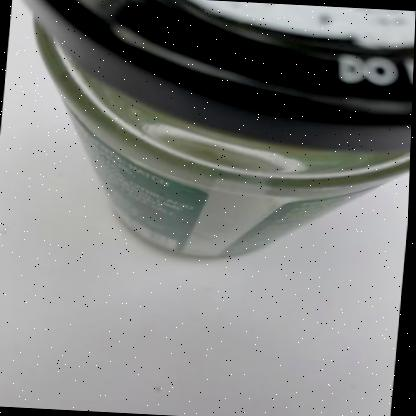Glass: (24, 0, 416, 259)
